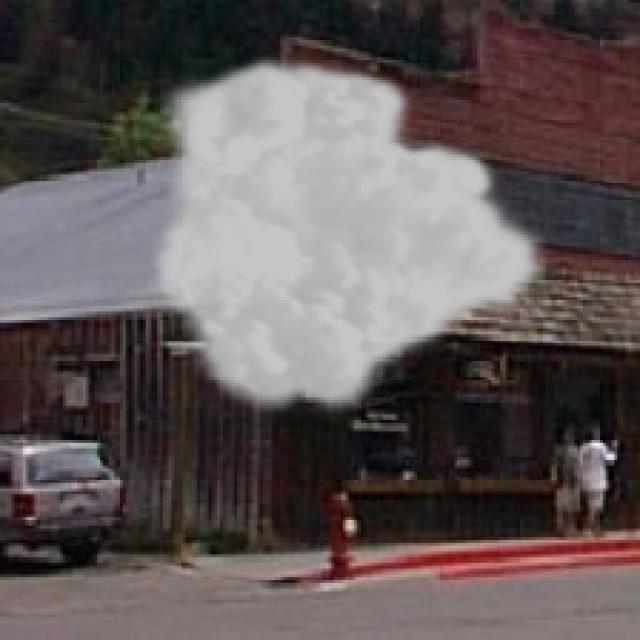smoke: (149, 51, 554, 423)
